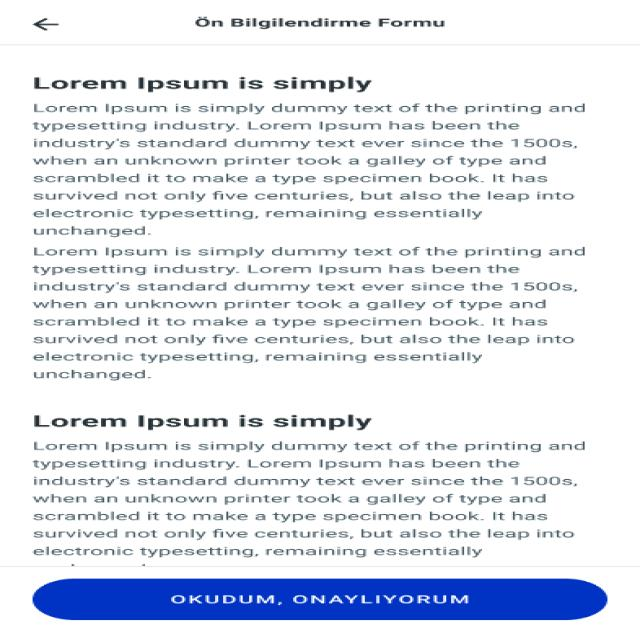QLabel: (18, 244, 590, 383), (18, 102, 594, 238), (22, 437, 582, 559), (24, 75, 379, 93), (24, 413, 376, 430), (162, 592, 478, 604), (186, 16, 447, 29)
VAppBar: (0, 0, 640, 45)
VBtn: (30, 578, 614, 621)
VFooter: (0, 567, 640, 640)
VIcon: (31, 18, 61, 30)
